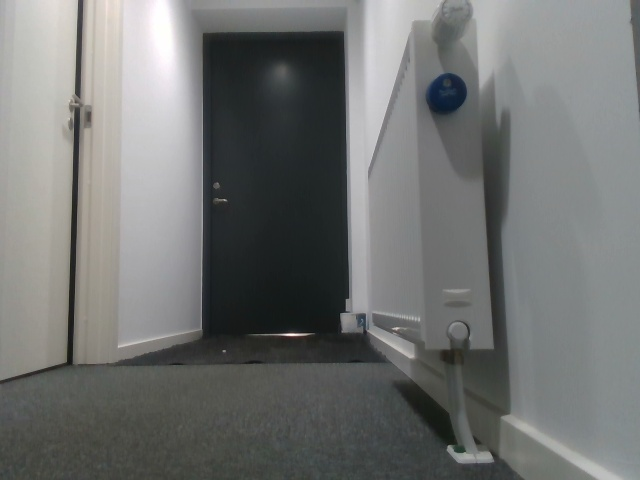alfa: (420, 69, 469, 115)
